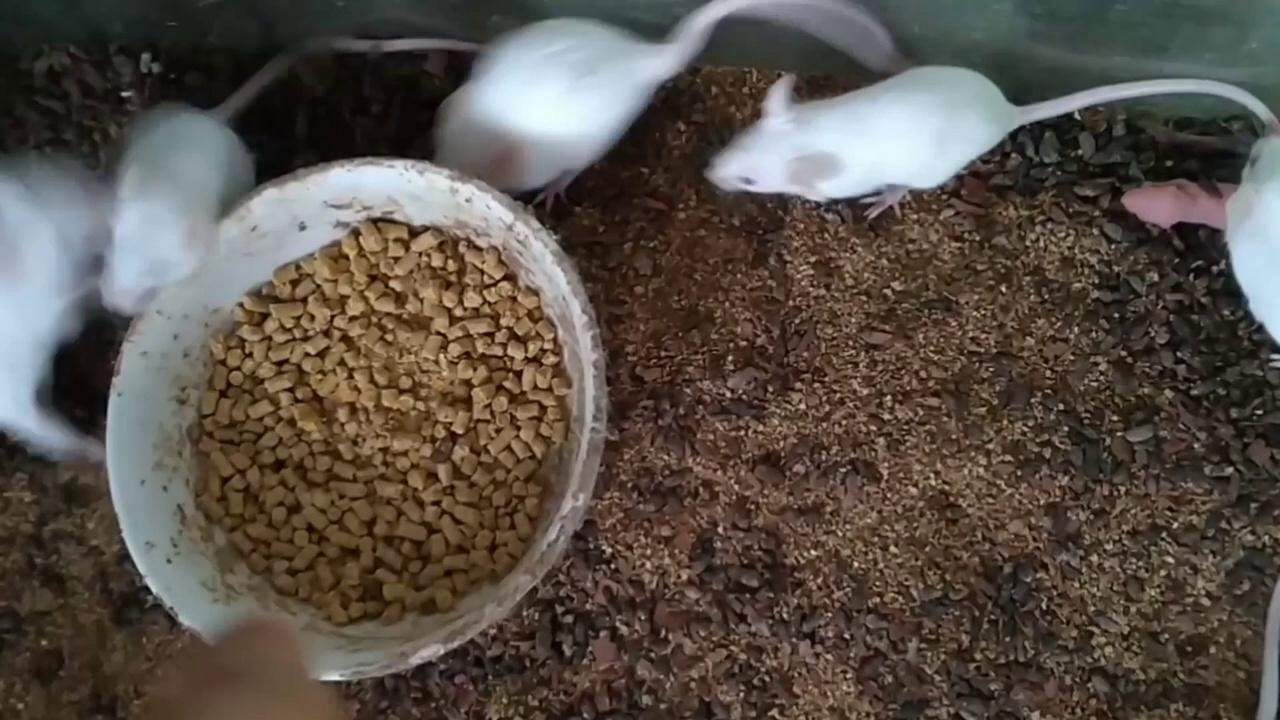rat: (100, 33, 485, 313), (437, 0, 895, 208), (706, 65, 1280, 222), (1227, 133, 1280, 369)
